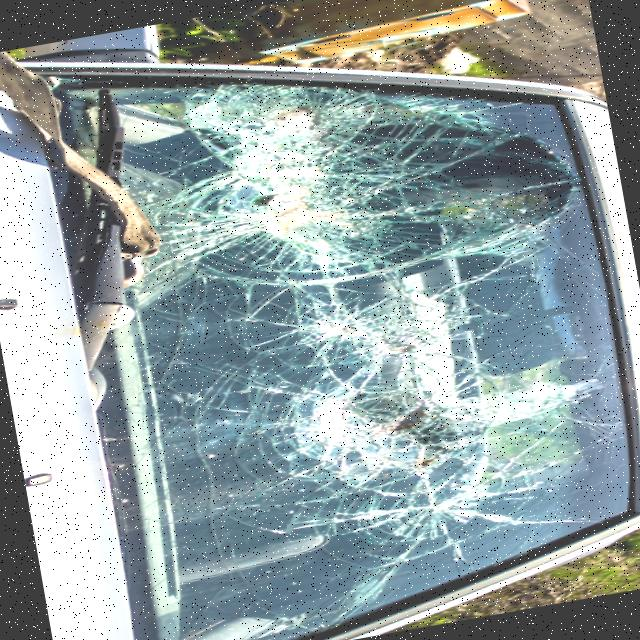Windshield: (99, 31, 618, 604)
